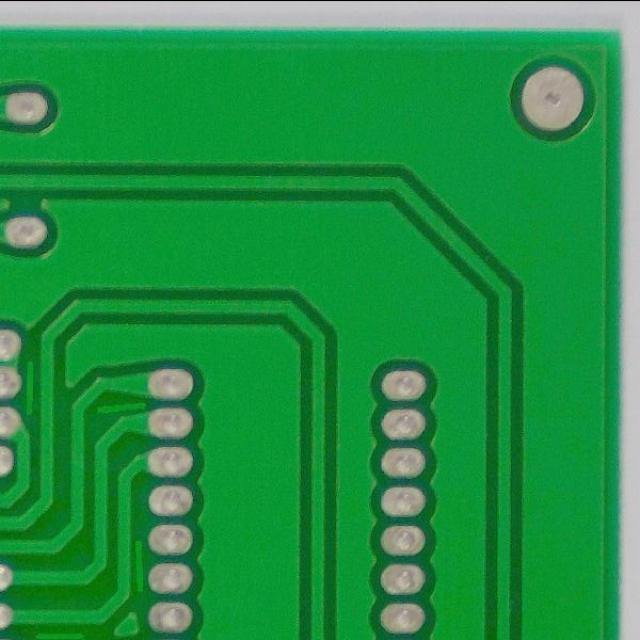Spurious_Cooper: (129, 534, 150, 596), (92, 397, 151, 418), (22, 355, 40, 419), (28, 627, 90, 640)
